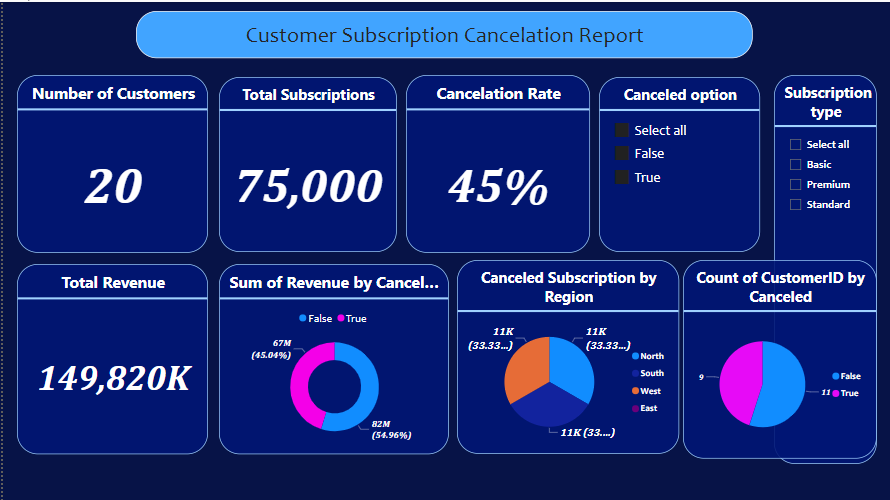

The page's visual inventory and layout, read from the dashboard file:
{"tool":"powerbi","page":{"name":"Customer Subscription Cancelation Report","canvas":[1280,720],"ordinal":0},"visuals":[{"type":"card","title":"Number of Customers","fields":{"Values":["Count(CustomerData.CustomerID)"]},"box":[19.8,104.4,275.4,255.6],"z":0},{"type":"card","title":"Cancelation Rate","fields":{"Values":["CustomerData.%CanceledSubscription"]},"box":[579.7,104.4,264.6,255.6],"z":1000},{"type":"card","title":"Total Revenue","fields":{"Values":["Sum(CustomerData.Revenue)"]},"box":[19.7,377.2,275.3,273.5],"z":2000},{"type":"slicer","title":"Canceled option","fields":{"Values":["CustomerData.Canceled"]},"box":[858.7,108,232.2,252],"z":3000},{"type":"card","title":"Total Subscriptions","fields":{"Values":["CustomerData.TotalSubscription"]},"box":[311.4,108,255.6,252],"z":4000},{"type":"donutChart","fields":{"Category":["CustomerData.Canceled"],"Y":["Sum(CustomerData.Revenue)"]},"box":[311.1,377.2,330.7,273.5],"z":5000},{"type":"textbox","box":[190.8,12.6,887.5,68.4],"z":6000},{"type":"slicer","title":"Subscription type","fields":{"Values":["CustomerData.SubscriptionType"]},"box":[1110.8,104.4,147.6,559.9],"z":7000},{"type":"pieChart","fields":{"Y":["Count(CustomerData.CustomerID)"],"Category":["CustomerData.Canceled"]},"box":[979.7,371.8,278.9,286],"z":8000},{"type":"pieChart","title":"Canceled Subscription by Region","fields":{"Category":["CustomerData.Region"],"Y":["Sum(CustomerData.CanceledCount)"]},"box":[654.3,371.8,320,278.9],"z":9000}]}

Visuals, with their boxes in screenshot pixels (x1, y1, x2, y2), scaled from the page's 1280x720 canvas onto the 890x500 screenshot:
"Number of Customers" card: 14:72:205:250
"Cancelation Rate" card: 403:72:587:250
"Total Revenue" card: 14:262:205:452
"Canceled option" slicer: 597:75:759:250
"Total Subscriptions" card: 217:75:394:250
donutChart - CustomerData.Canceled x Sum(CustomerData.Revenue): 216:262:446:452
textbox: 133:9:750:56
"Subscription type" slicer: 772:72:875:461
pieChart - Count(CustomerData.CustomerID) x CustomerData.Canceled: 681:258:875:457
"Canceled Subscription by Region" pieChart: 455:258:677:452
